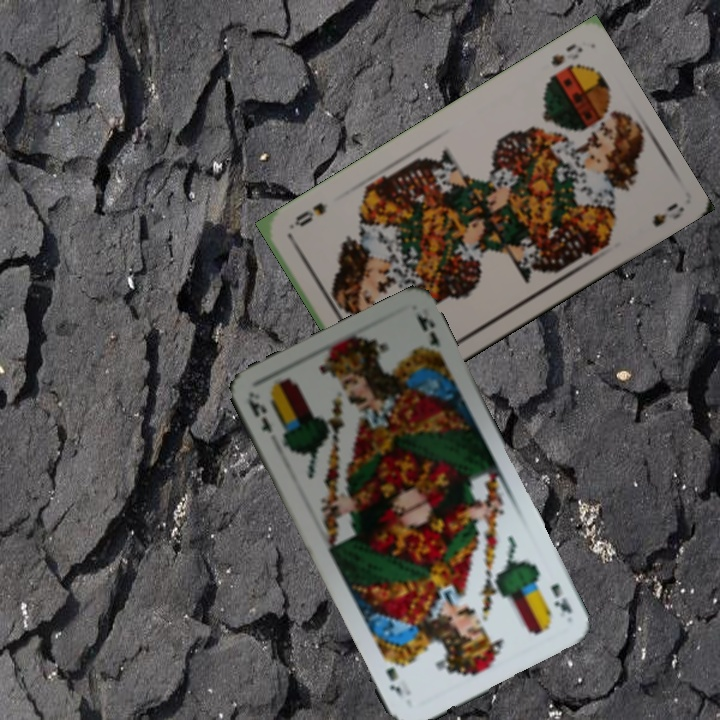EK: (243, 393, 275, 436), (547, 579, 575, 616)
SO: (547, 39, 586, 69)
